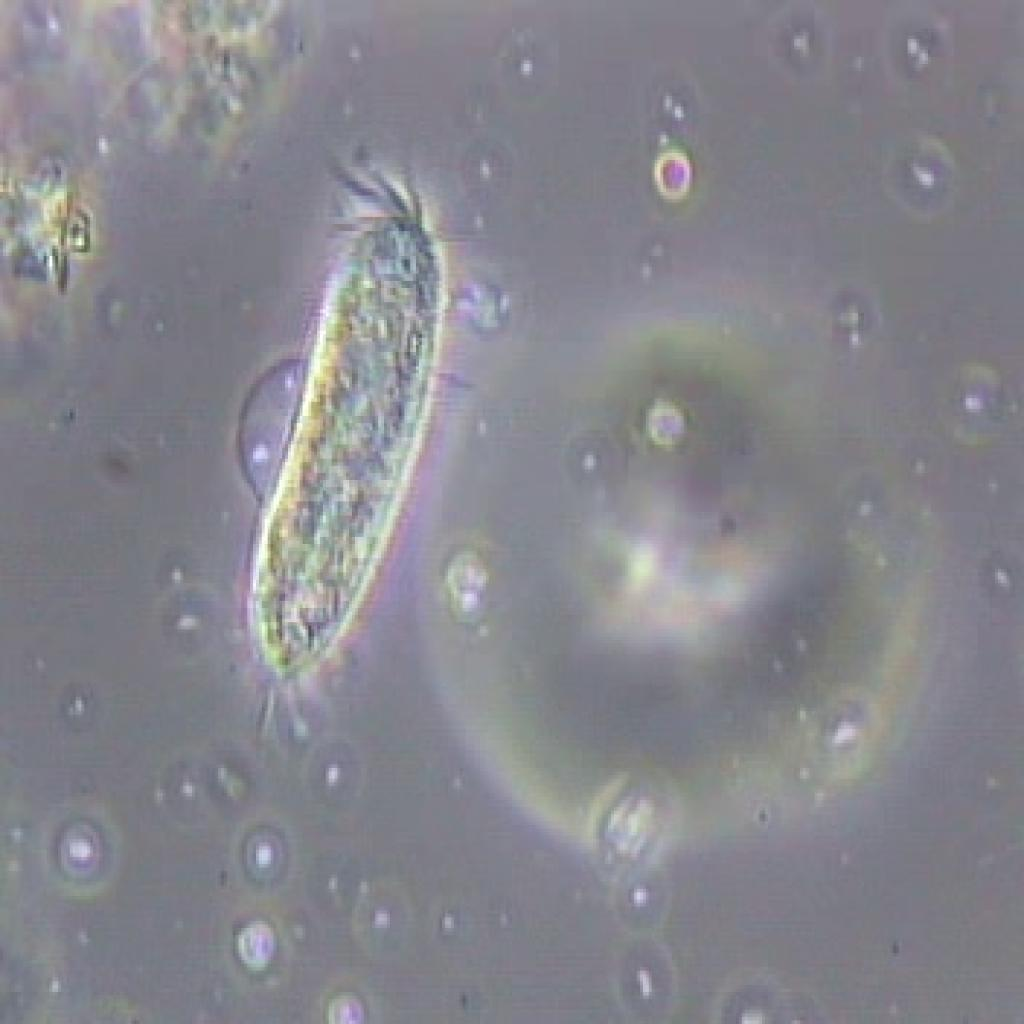Stylonychia: (231, 144, 470, 727)
